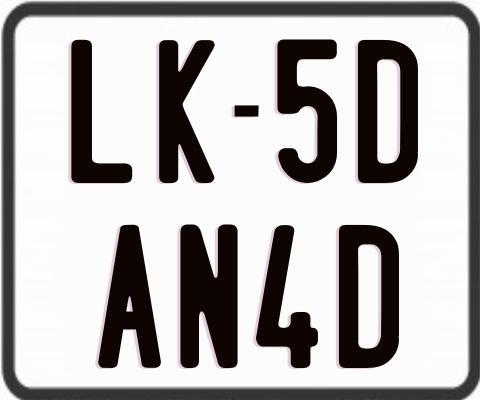4: (256, 224, 320, 370)
5: (274, 39, 340, 186)
A: (96, 224, 162, 368)
D: (357, 40, 423, 183), (336, 225, 398, 373)
K: (157, 37, 214, 186)
L: (68, 37, 131, 180)
N: (180, 222, 241, 371)
